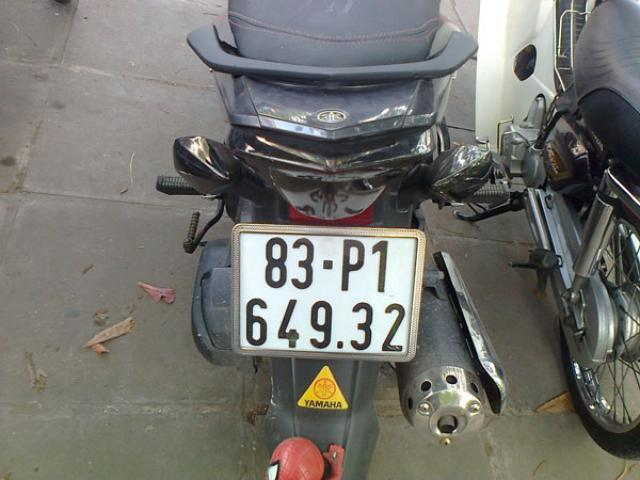plate: (234, 227, 416, 364)
